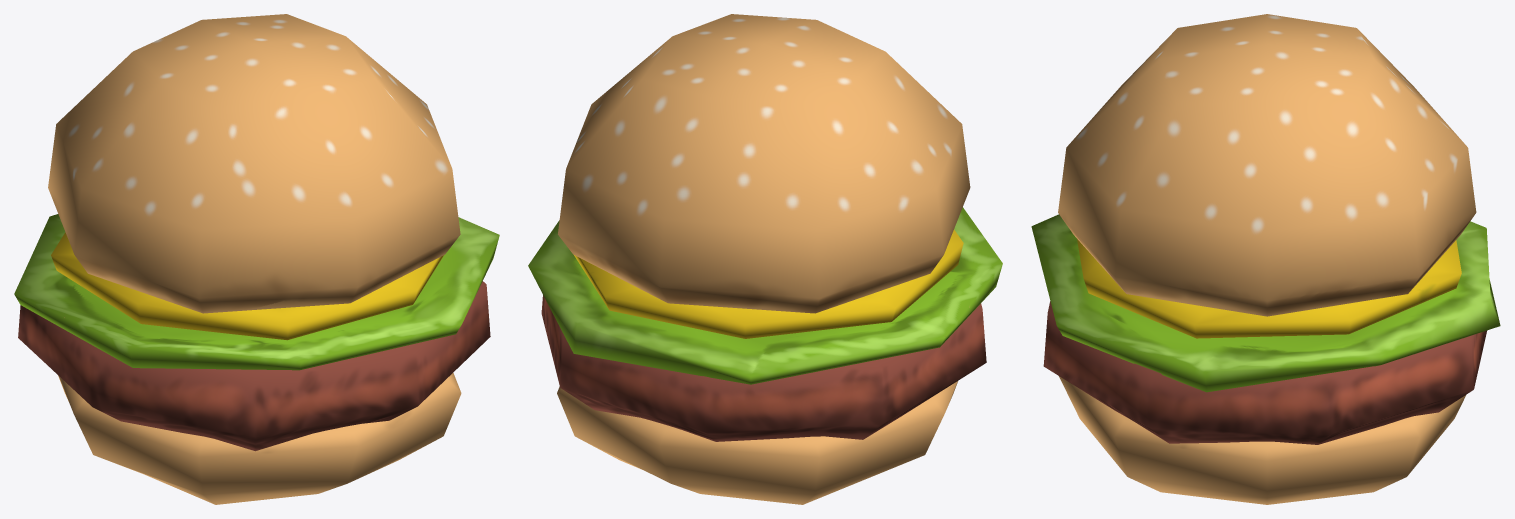
The model's file is AMMO_burger.fbx.
3 renders of one model, left to right at view 1: azimuth 30°, elevation 25°; view 2: azimuth 150°, elevation 25°; view 3: azimuth 270°, elevation 25°, orthographic.
Visible parts, largest first — view 1: SM_Burg_lowpoly.001; view 2: SM_Burg_lowpoly.001; view 3: SM_Burg_lowpoly.001.
Part boxes in pixels (box(x1,y1,x2,y2)): SM_Burg_lowpoly.001: box(14, 14, 499, 504); SM_Burg_lowpoly.001: box(528, 14, 1002, 504); SM_Burg_lowpoly.001: box(1031, 14, 1500, 504).
Bounding box in the file's own units: 979 × 902 × 929.
Materials: 1 (1 with a texture image).
